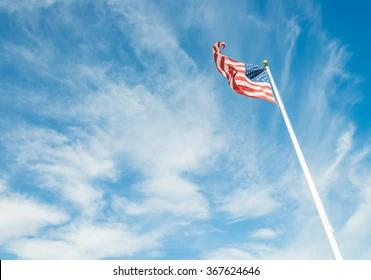America flag: (211, 42, 275, 103)
